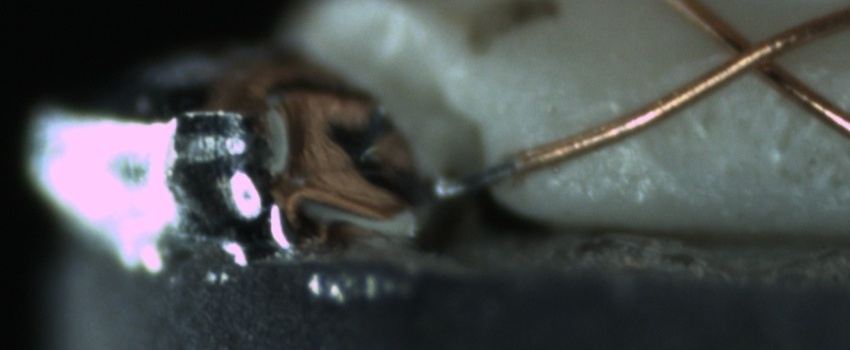CL: (708, 19, 801, 91)
TS: (437, 159, 517, 195)
TTCW: (433, 148, 527, 198)
